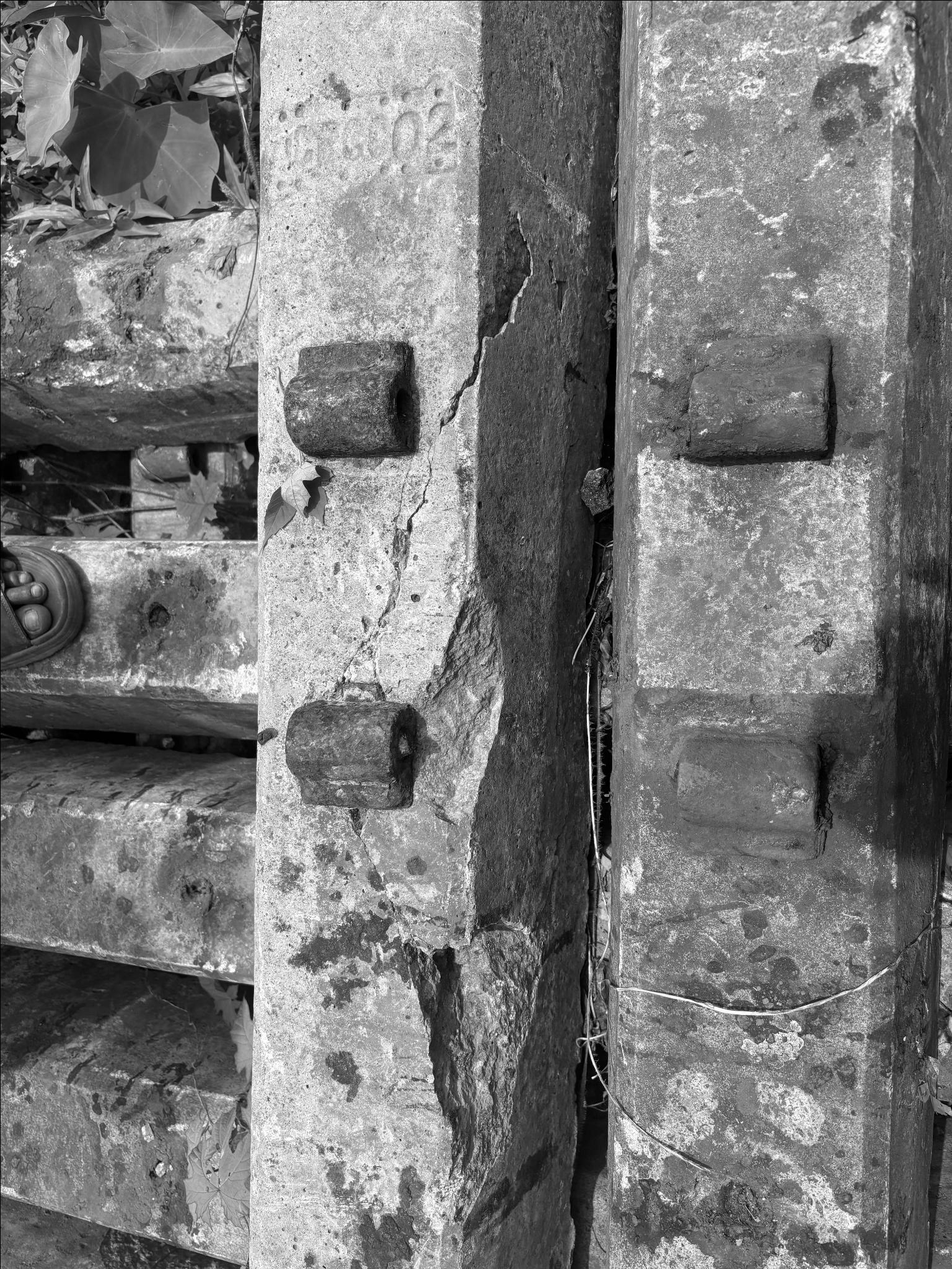cracks under rail seat: (287, 170, 582, 723), (335, 784, 591, 1232), (379, 580, 533, 848)
